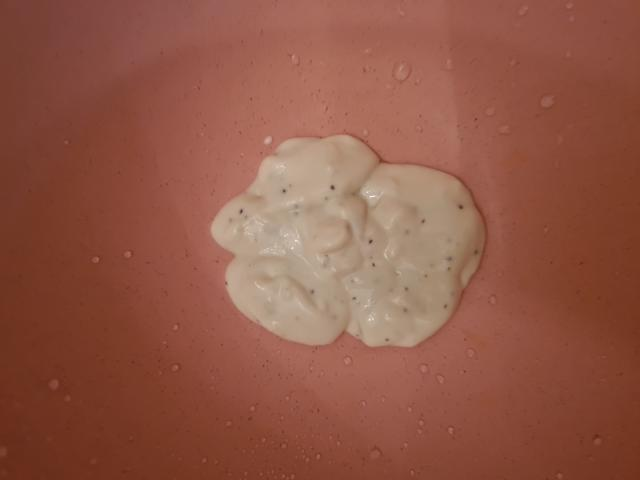kichen waste: (211, 134, 485, 347)
